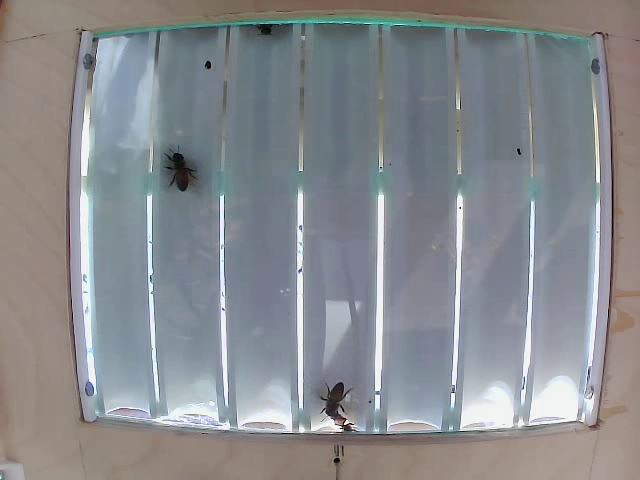bee: (156, 135, 196, 192)
